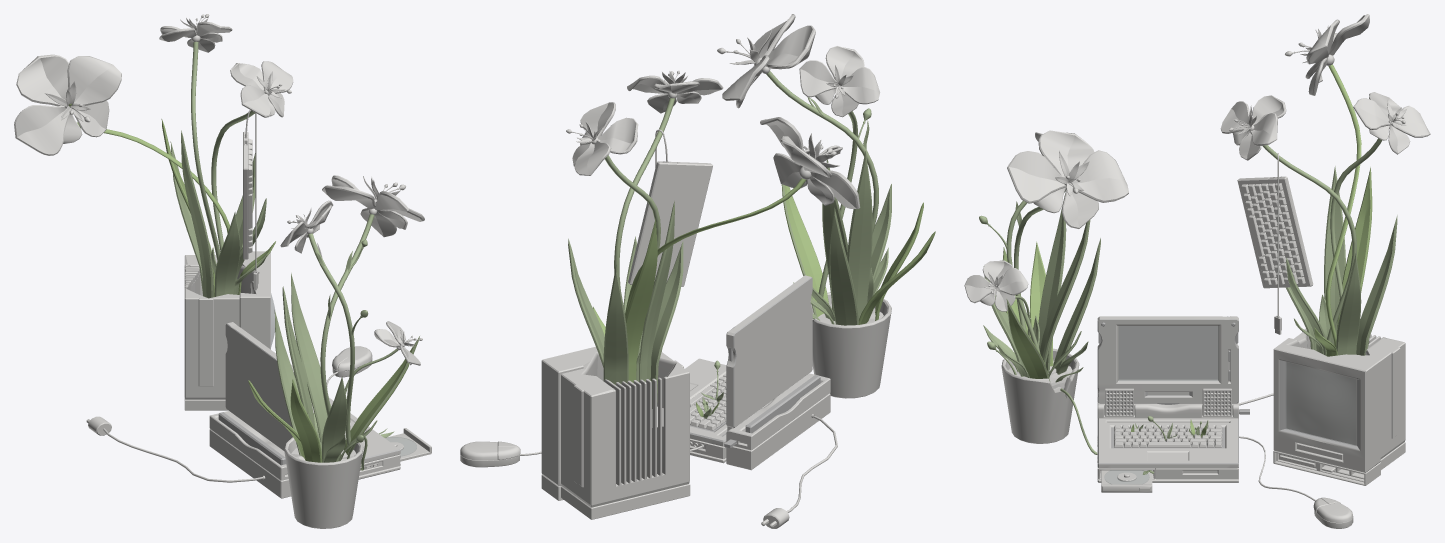
File: hw_xyz_school_detailingretro_computer_flowers.glb
3 renders of one model, left to right at view 1: azimuth 30°, elevation 25°; view 2: azimuth 150°, elevation 25°; view 3: azimuth 270°, elevation 25°, orthographic. The views are drawn at different scales.
Visible parts, largest first — view 1: pCube46, polySurface157, polySurface43, polySurface26, polySurface41, pCube44, pCube47, polySurface10, polySurface164, polySurface42, polySurface173, pCube48 (+20 smaller); view 2: polySurface157, polySurface43, polySurface159, polySurface26, polySurface195, polySurface41, pCube46, pCube45, pCube44, pCube48, polySurface13, polySurface163 (+21 smaller); view 3: polySurface157, polySurface43, pCube44, polySurface42, polySurface44, polySurface153, polySurface26, pCube48, pCube47, polySurface71, pCube43, pCube46 (+20 smaller).
Part boxes in pixels (left/top/right/bottom): pCube46: left=14, top=54, right=121, bottom=155; polySurface157: left=184, top=251, right=270, bottom=399; polySurface43: left=225, top=322, right=294, bottom=450; polySurface26: left=284, top=437, right=363, bottom=528; polySurface41: left=209, top=411, right=291, bottom=498; pCube44: left=322, top=175, right=424, bottom=237; pCube47: left=230, top=61, right=293, bottom=117; polySurface10: left=291, top=273, right=330, bottom=444; polySurface164: left=181, top=130, right=213, bottom=298; polySurface42: left=262, top=397, right=400, bottom=479; polySurface173: left=214, top=212, right=240, bottom=296; pCube48: left=159, top=14, right=232, bottom=52; polySurface157: left=541, top=346, right=689, bottom=507; polySurface43: left=726, top=275, right=812, bottom=427; polySurface159: left=594, top=376, right=667, bottom=486; polySurface26: left=811, top=292, right=891, bottom=398; polySurface195: left=628, top=161, right=712, bottom=286; polySurface41: left=726, top=373, right=830, bottom=470; pCube46: left=760, top=117, right=860, bottom=208; pCube45: left=799, top=46, right=880, bottom=117; pCube44: left=717, top=14, right=815, bottom=108; pCube48: left=566, top=102, right=638, bottom=175; polySurface13: left=847, top=151, right=872, bottom=319; polySurface163: left=625, top=218, right=657, bottom=382; polySurface157: left=1273, top=328, right=1405, bottom=472; polySurface43: left=1097, top=316, right=1238, bottom=403; pCube44: left=1007, top=130, right=1128, bottom=228; polySurface42: left=1097, top=418, right=1238, bottom=482; polySurface44: left=1118, top=326, right=1218, bottom=381; polySurface153: left=1286, top=362, right=1355, bottom=445; polySurface26: left=1001, top=348, right=1079, bottom=443; pCube48: left=1353, top=92, right=1430, bottom=154; pCube47: left=1220, top=95, right=1286, bottom=160; polySurface71: left=1114, top=425, right=1222, bottom=447; pCube43: left=964, top=260, right=1028, bottom=311; pCube46: left=1285, top=14, right=1369, bottom=95.
Size of the model in its own units: 0.1102 by 0.1106 by 0.1267.
